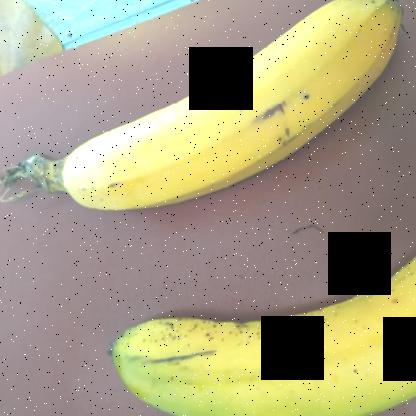freshripe: (65, 0, 415, 225)
ripe: (73, 247, 416, 415)
